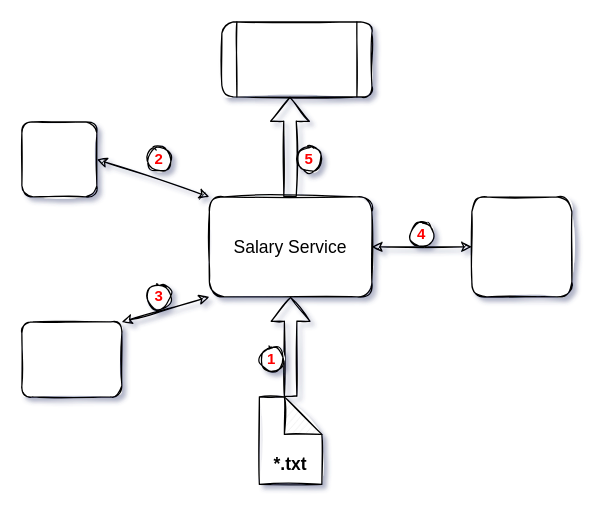
The diagram is 601 pixels wide and 525 high, and some of its shapes have lost their labels. The shapes that lost their labels are listed below. From the top down, each one's centre as x and y in pixels, then its label:
point 296,59: Screen
point 59,159: File Reader
point 521,246: Salary Calculator
point 71,359: Employee Mapper
